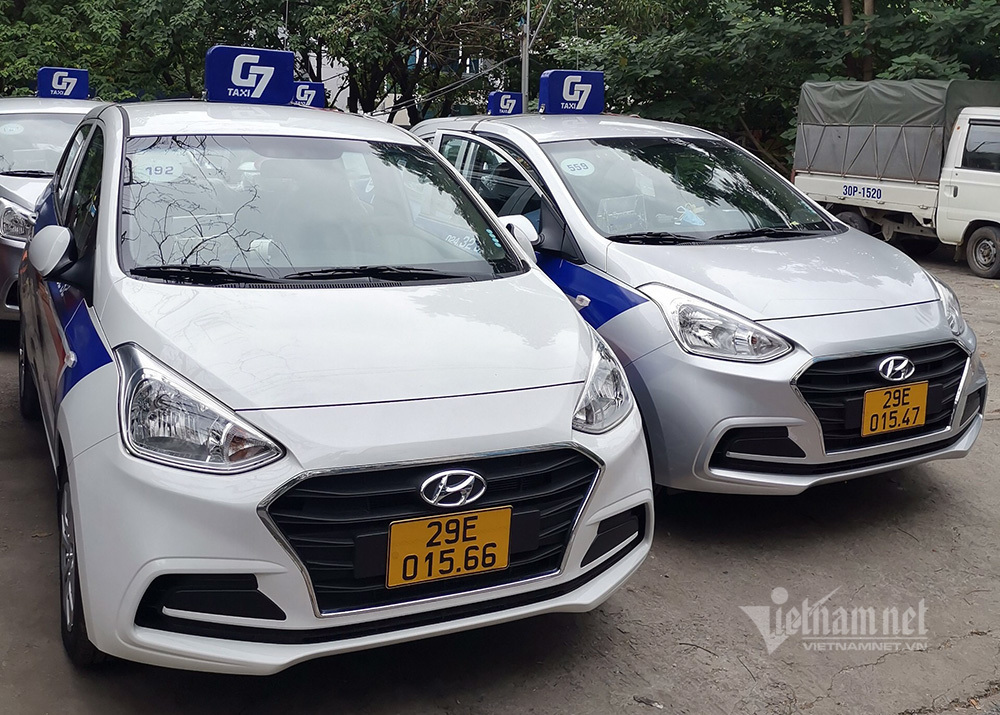plate: (386, 506, 511, 587), (859, 381, 927, 439)
